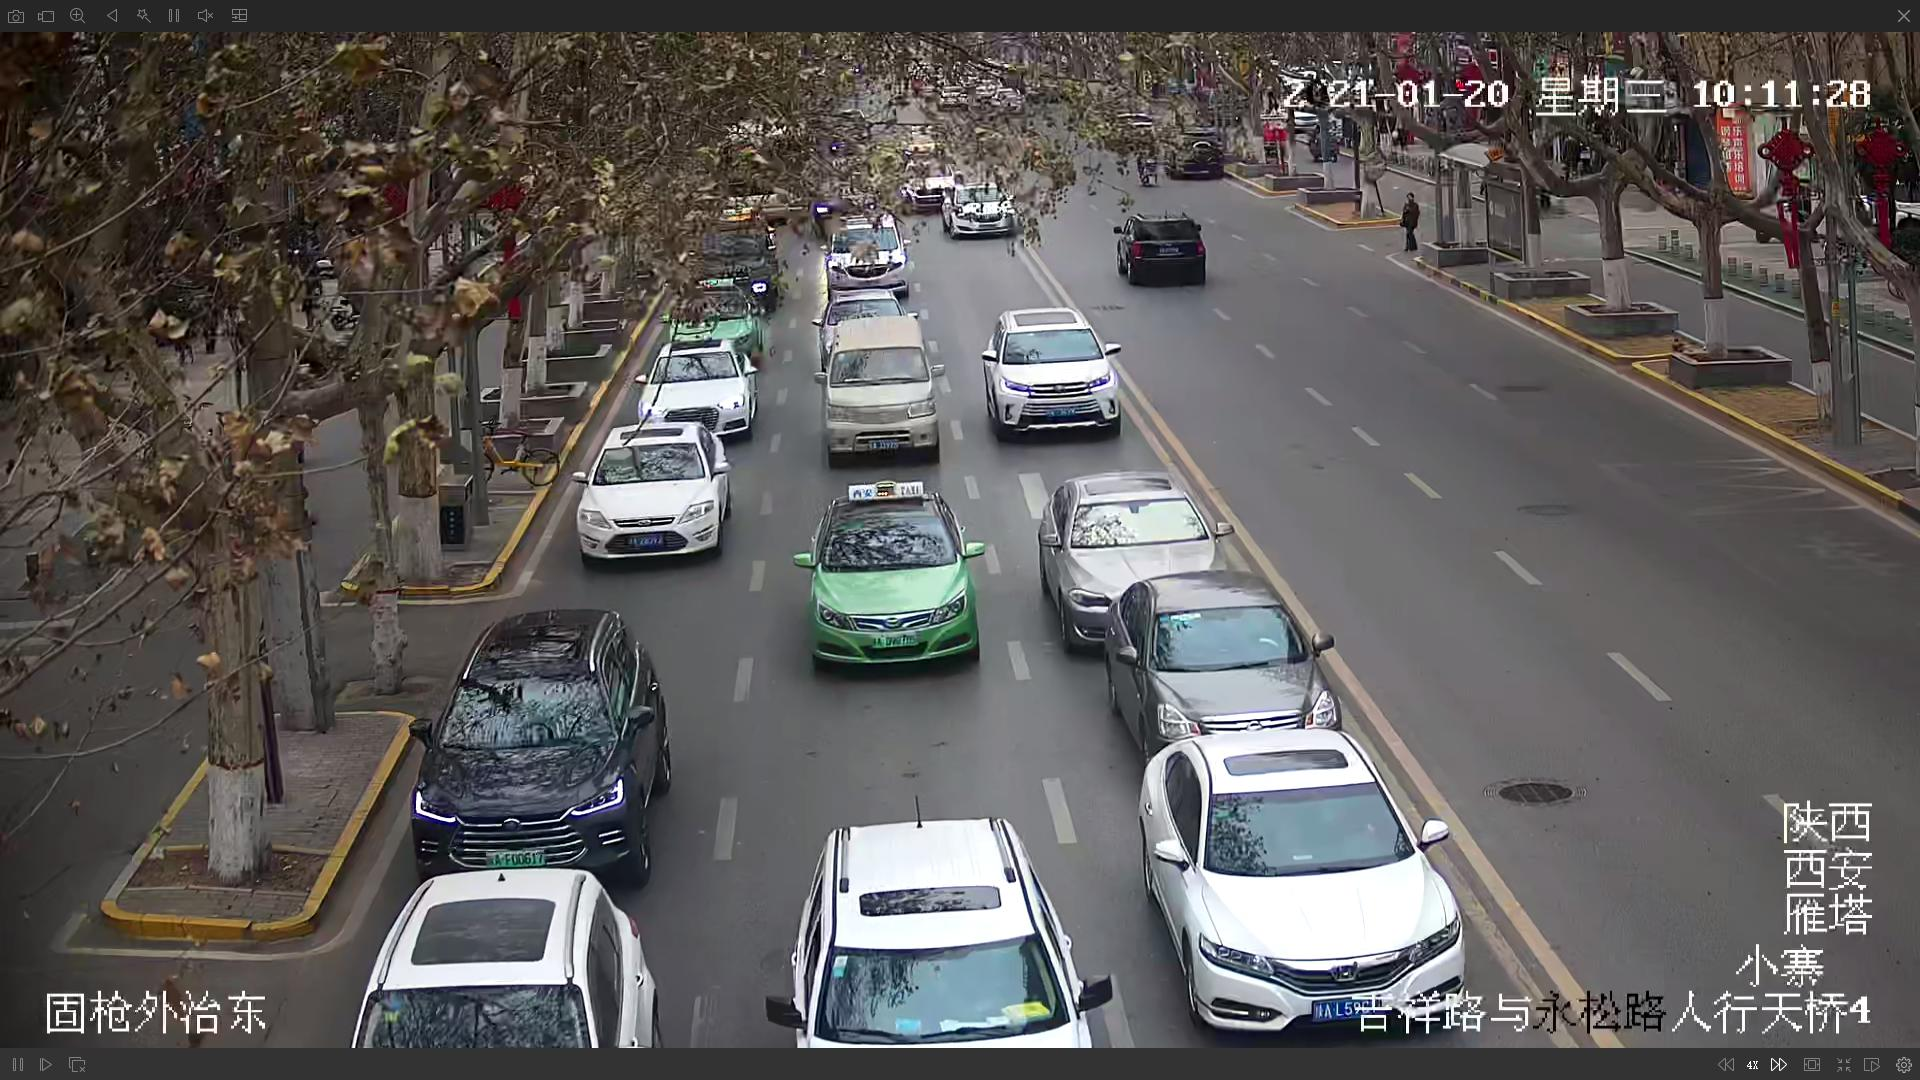black: (409, 617, 670, 884)
grass-green: (796, 487, 984, 657)
gray: (1106, 576, 1350, 745)
white: (1134, 738, 1476, 1025), (575, 430, 727, 568)
